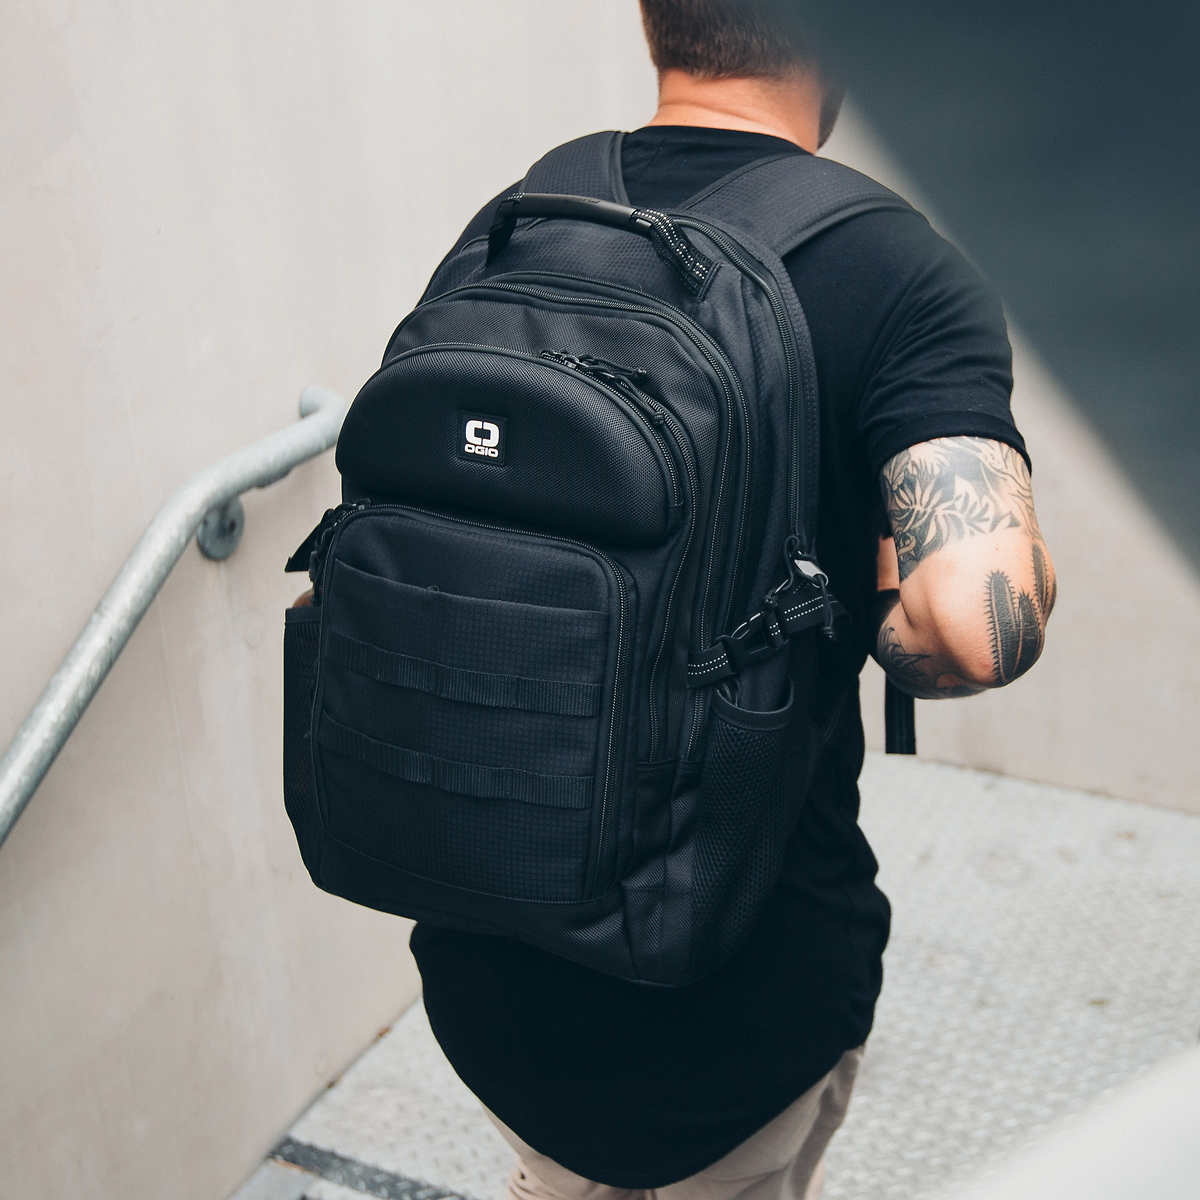backpack: (95, 102, 1032, 1038)
